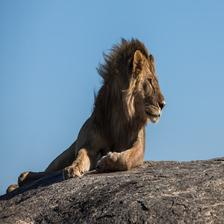Lion: (54, 37, 169, 177)
